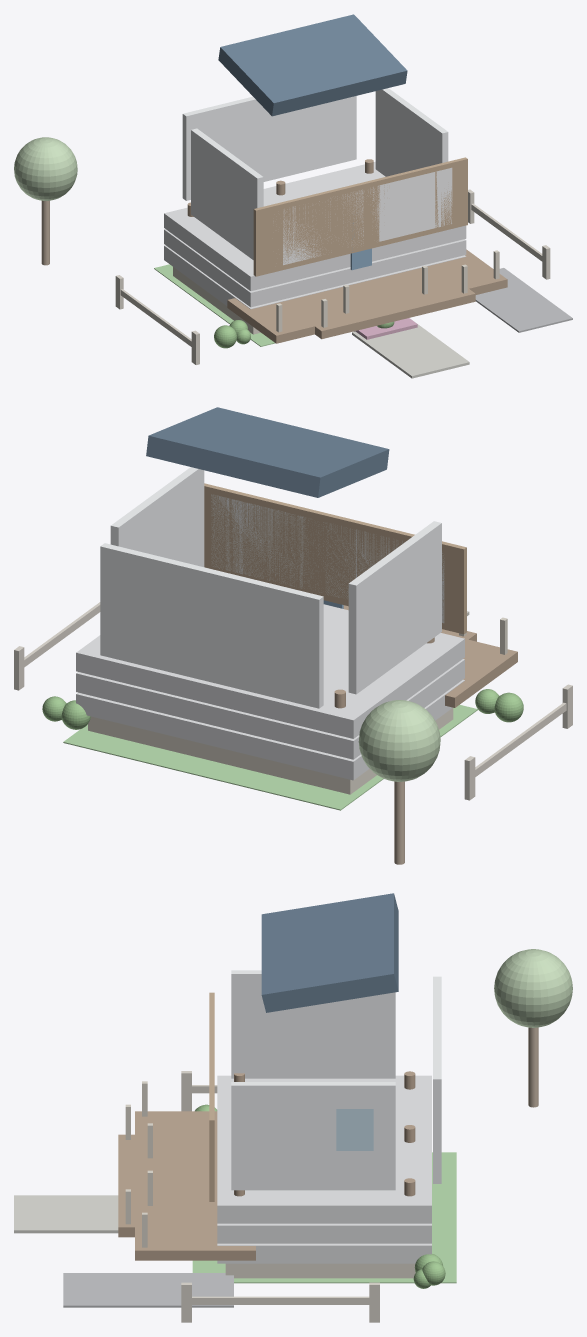
File: BUILDING_HOUSE_BEACH_BUNGALOW_001_LOD_CLOSE.glb
The picture shows the model from 3 angles, top to bottom: view 1: azimuth 30°, elevation 25°; view 2: azimuth 150°, elevation 25°; view 3: azimuth 270°, elevation 25°; orthographic projection. The views are drawn at different scales.
Parts seen in each view (by area): view 1: MOD_ROOF_GABLE_STANDARD_001, MOD_WALL_WEATHERBOARD_WHITE_001.002, MOD_WINDOW_RESIDENTIAL_LARGE_001_COASTAL_PANORAMIC_WINDOW_CL, MOD_DECK_TIMBER_COASTAL_001_WRAP_DECK_CLOSE_PLATFORM, MOD_FOUNDATION_RAISED_COASTAL_001_COASTAL_STILT_FOUNDATION_C, MOD_WALL_WEATHERBOARD_WHITE_001, MOD_FOUNDATION_RAISED_COASTAL_001_MEDIUM_RAISED_COASTAL_CLOS, MOD_WALL_WEATHERBOARD_WHITE_001.001, MOD_WINDOW_RESIDENTIAL_LARGE_001_LARGE_SINGLE_WINDOW_CLOSE_F (×2), MOD_TREE_EUCALYPTUS_STANDARD_001_CLOSE_CANOPY, MOD_DECK_TIMBER_COASTAL_001_MEDIUM_DECK_CLOSE_PLATFORM, MOD_PATH_STANDARD_001_CLOSE_SURFACE (+10 smaller); view 2: MOD_WALL_WEATHERBOARD_WHITE_001.002, MOD_FOUNDATION_RAISED_COASTAL_001_COASTAL_STILT_FOUNDATION_C, MOD_ROOF_GABLE_STANDARD_001, MOD_WALL_WEATHERBOARD_WHITE_001, MOD_WINDOW_RESIDENTIAL_LARGE_001_COASTAL_PANORAMIC_WINDOW_C., MOD_WINDOW_RESIDENTIAL_LARGE_001_COASTAL_PANORAMIC_WINDOW_CL, MOD_FOUNDATION_RAISED_COASTAL_001_MEDIUM_RAISED_COASTAL_CLOS, MOD_FOUNDATION_RAISED_COASTAL_001_LOW_RAISED_COASTAL_CLOSE_P, MOD_WALL_WEATHERBOARD_WHITE_001.001, MOD_GROUND_GRASS_STANDARD_001_CLOSE_PATCH, MOD_TREE_EUCALYPTUS_STANDARD_001_CLOSE_CANOPY, MOD_WINDOW_RESIDENTIAL_LARGE_001_DOUBLE_PANEL_WINDOW_CLOSE_F (×2) (+8 smaller); view 3: MOD_WALL_WEATHERBOARD_WHITE_001.001, MOD_ROOF_GABLE_STANDARD_001, MOD_WALL_WEATHERBOARD_WHITE_001, MOD_FOUNDATION_RAISED_COASTAL_001_COASTAL_STILT_FOUNDATION_C, MOD_DECK_TIMBER_COASTAL_001_MEDIUM_DECK_CLOSE_PLATFORM, MOD_DRIVEWAY_STANDARD_SINGLE_001_CLOSE_SURFACE, MOD_DECK_TIMBER_COASTAL_001_WRAP_DECK_CLOSE_PLATFORM, MOD_TREE_EUCALYPTUS_STANDARD_001_CLOSE_CANOPY, MOD_FOUNDATION_RAISED_COASTAL_001_MEDIUM_RAISED_COASTAL_CLOS, MOD_GROUND_GRASS_STANDARD_001_CLOSE_PATCH, MOD_PATH_STANDARD_001_CLOSE_SURFACE, MOD_FOUNDATION_RAISED_COASTAL_001_LOW_RAISED_COASTAL_CLOSE_P (+6 smaller).
Boxes of the visible parts, box(x1,y1,x2,y2) form: MOD_ROOF_GABLE_STANDARD_001: box(218, 14, 407, 116); MOD_WALL_WEATHERBOARD_WHITE_001.002: box(182, 96, 356, 200); MOD_WINDOW_RESIDENTIAL_LARGE_001_COASTAL_PANORAMIC_WINDOW_CL: box(253, 179, 379, 276); MOD_DECK_TIMBER_COASTAL_001_WRAP_DECK_CLOSE_PLATFORM: box(227, 249, 507, 343); MOD_FOUNDATION_RAISED_COASTAL_001_COASTAL_STILT_FOUNDATION_C: box(164, 161, 466, 290); MOD_WALL_WEATHERBOARD_WHITE_001: box(191, 128, 263, 259); MOD_FOUNDATION_RAISED_COASTAL_001_MEDIUM_RAISED_COASTAL_CLOS: box(164, 229, 466, 307); MOD_WALL_WEATHERBOARD_WHITE_001.001: box(375, 88, 448, 176); MOD_WINDOW_RESIDENTIAL_LARGE_001_LARGE_SINGLE_WINDOW_CLOSE_F (×2): box(283, 170, 440, 265); MOD_TREE_EUCALYPTUS_STANDARD_001_CLOSE_CANOPY: box(14, 137, 77, 200); MOD_DECK_TIMBER_COASTAL_001_MEDIUM_DECK_CLOSE_PLATFORM: box(282, 269, 475, 339); MOD_PATH_STANDARD_001_CLOSE_SURFACE: box(352, 319, 469, 378); MOD_WALL_WEATHERBOARD_WHITE_001.002: box(100, 543, 323, 708); MOD_FOUNDATION_RAISED_COASTAL_001_COASTAL_STILT_FOUNDATION_C: box(76, 604, 464, 738); MOD_ROOF_GABLE_STANDARD_001: box(146, 407, 389, 497); MOD_WALL_WEATHERBOARD_WHITE_001: box(348, 521, 441, 694); MOD_WINDOW_RESIDENTIAL_LARGE_001_COASTAL_PANORAMIC_WINDOW_C.: box(204, 483, 349, 606); MOD_WINDOW_RESIDENTIAL_LARGE_001_COASTAL_PANORAMIC_WINDOW_CL: box(305, 509, 466, 634); MOD_FOUNDATION_RAISED_COASTAL_001_MEDIUM_RAISED_COASTAL_CLOS: box(76, 659, 464, 759); MOD_FOUNDATION_RAISED_COASTAL_001_LOW_RAISED_COASTAL_CLOSE_P: box(76, 679, 464, 780); MOD_WALL_WEATHERBOARD_WHITE_001.001: box(110, 467, 204, 566); MOD_GROUND_GRASS_STANDARD_001_CLOSE_PATCH: box(63, 705, 477, 810); MOD_TREE_EUCALYPTUS_STANDARD_001_CLOSE_CANOPY: box(358, 700, 440, 781); MOD_WINDOW_RESIDENTIAL_LARGE_001_DOUBLE_PANEL_WINDOW_CLOSE_F (×2): box(211, 494, 444, 623); MOD_WALL_WEATHERBOARD_WHITE_001.001: box(231, 1082, 395, 1190); MOD_ROOF_GABLE_STANDARD_001: box(261, 893, 398, 1012); MOD_WALL_WEATHERBOARD_WHITE_001: box(231, 970, 395, 1078); MOD_FOUNDATION_RAISED_COASTAL_001_COASTAL_STILT_FOUNDATION_C: box(217, 1075, 431, 1223); MOD_DECK_TIMBER_COASTAL_001_MEDIUM_DECK_CLOSE_PLATFORM: box(118, 1134, 217, 1237); MOD_DRIVEWAY_STANDARD_SINGLE_001_CLOSE_SURFACE: box(63, 1273, 233, 1307); MOD_DECK_TIMBER_COASTAL_001_WRAP_DECK_CLOSE_PLATFORM: box(135, 1111, 255, 1260); MOD_TREE_EUCALYPTUS_STANDARD_001_CLOSE_CANOPY: box(494, 949, 572, 1027); MOD_FOUNDATION_RAISED_COASTAL_001_MEDIUM_RAISED_COASTAL_CLOS: box(217, 1223, 431, 1243); MOD_GROUND_GRASS_STANDARD_001_CLOSE_PATCH: box(192, 1152, 456, 1283); MOD_PATH_STANDARD_001_CLOSE_SURFACE: box(14, 1195, 118, 1233); MOD_FOUNDATION_RAISED_COASTAL_001_LOW_RAISED_COASTAL_CLOSE_P: box(217, 1243, 431, 1263).
Bounding box in the file's own units: 10.12 × 5.72 × 10.17.
